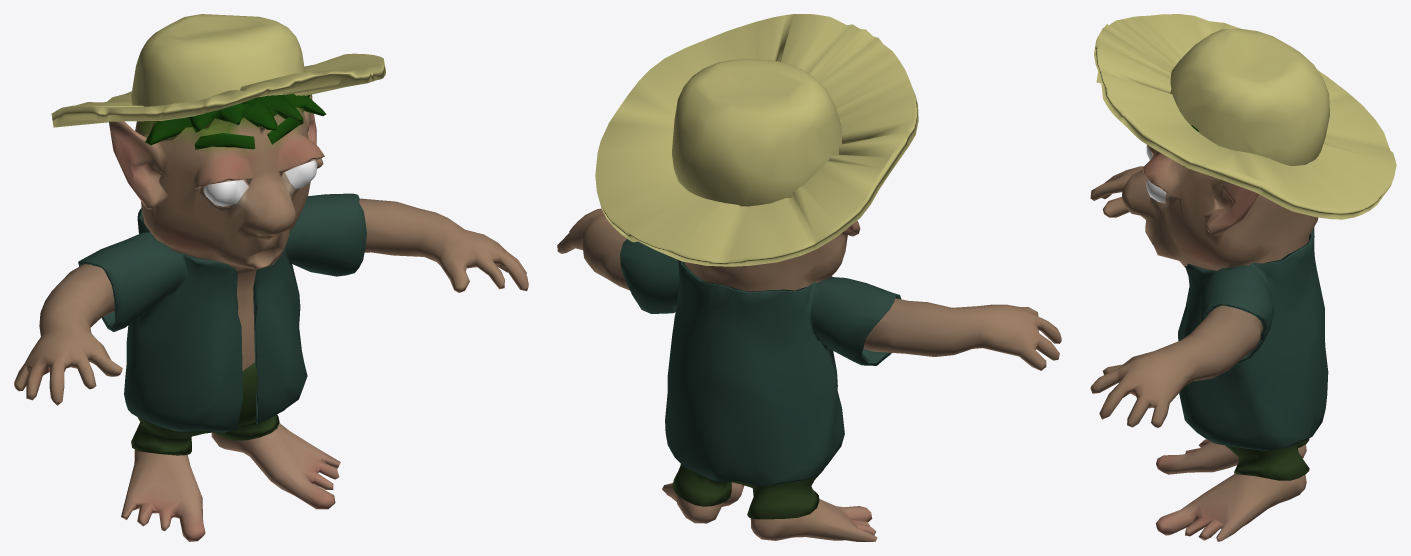
File: Enemy_var.1.fbx
3 renders of one model, left to right at view 1: azimuth 30°, elevation 25°; view 2: azimuth 150°, elevation 25°; view 3: azimuth 270°, elevation 25°, orthographic. The views are drawn at different scales.
Visible parts, largest first — view 1: Extract14, Extract4, PM3D_Sphere3D1, Extract1; view 2: PM3D_Sphere3D1, Extract4, Extract14, Extract1; view 3: PM3D_Sphere3D1, Extract14, Extract4, Extract1.
Boxes of the visible parts, x1,y1,x2,y2 form: Extract14: (14,93,528,541); Extract4: (78,193,366,432); PM3D_Sphere3D1: (51,14,385,127); Extract1: (131,362,279,455); PM3D_Sphere3D1: (595,14,918,266); Extract4: (620,239,901,486); Extract14: (557,208,1061,541); Extract1: (672,464,824,519); PM3D_Sphere3D1: (1094,14,1396,219); Extract14: (1090,125,1318,541); Extract4: (1178,227,1328,450); Extract1: (1225,438,1309,480).
Size of the model in its own units: 6.55 by 5.98 by 3.6.
